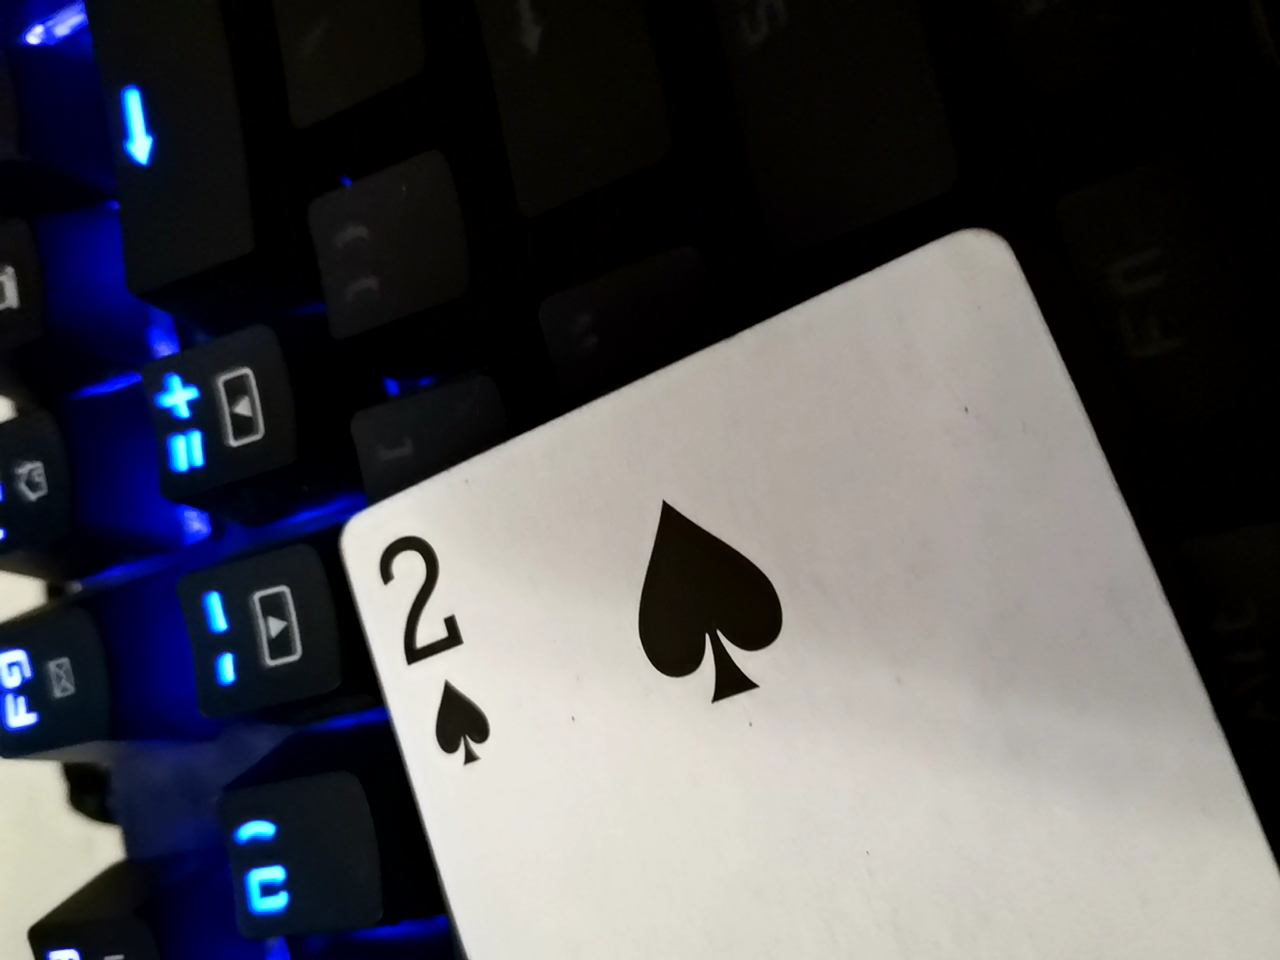ht 2: (298, 229, 1265, 955)
